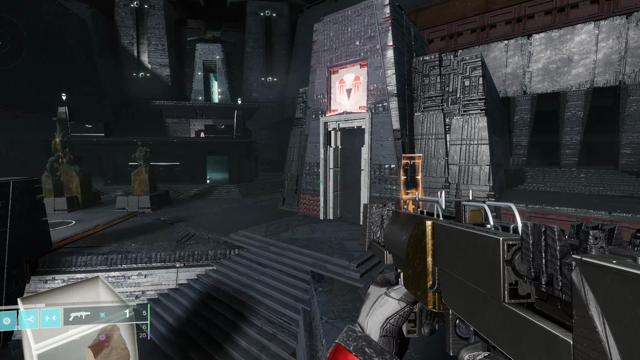enter: (196, 130, 204, 137)
give: (336, 73, 363, 105)
